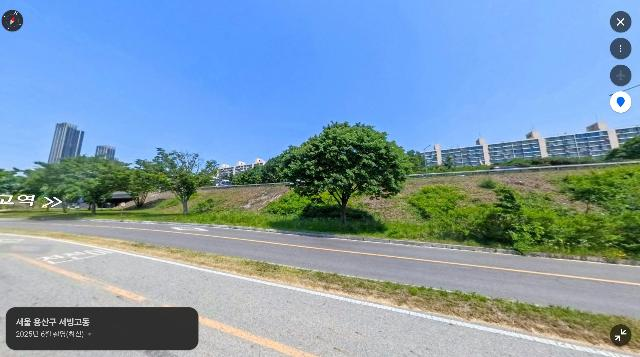other: (264, 120, 414, 226), (139, 146, 222, 217), (18, 154, 112, 216), (564, 163, 640, 231), (477, 190, 551, 251), (84, 160, 154, 216)
